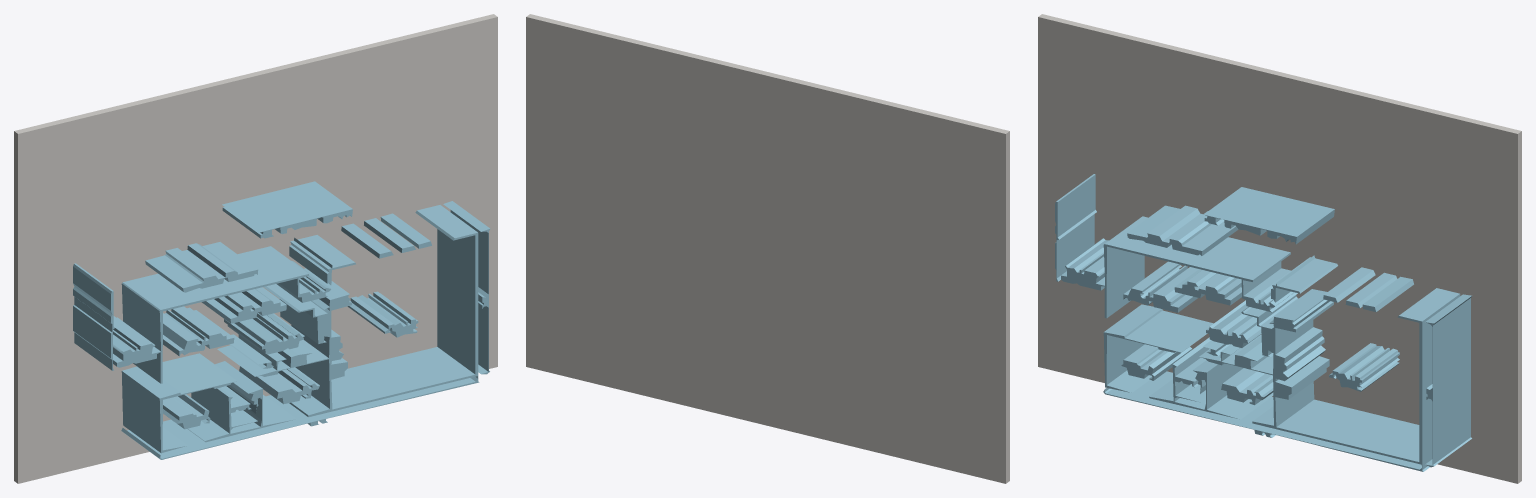
3 renders of one model, left to right at view 1: azimuth 30°, elevation 25°; view 2: azimuth 150°, elevation 25°; view 3: azimuth 330°, elevation 25°, orthographic.
Visible parts, largest first — view 1: world; view 2: world; view 3: world.
Part boxes in pixels (x1,y1,x2,y2): world: [14, 14, 497, 483]; world: [526, 14, 1009, 483]; world: [1038, 14, 1521, 483].
Size of the model in its own units: 10.23 by 7.13 by 1.55.
